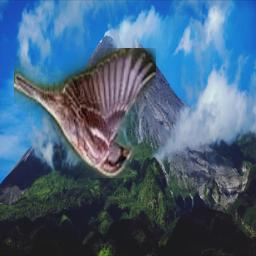Sparrow: (14, 48, 156, 178)
